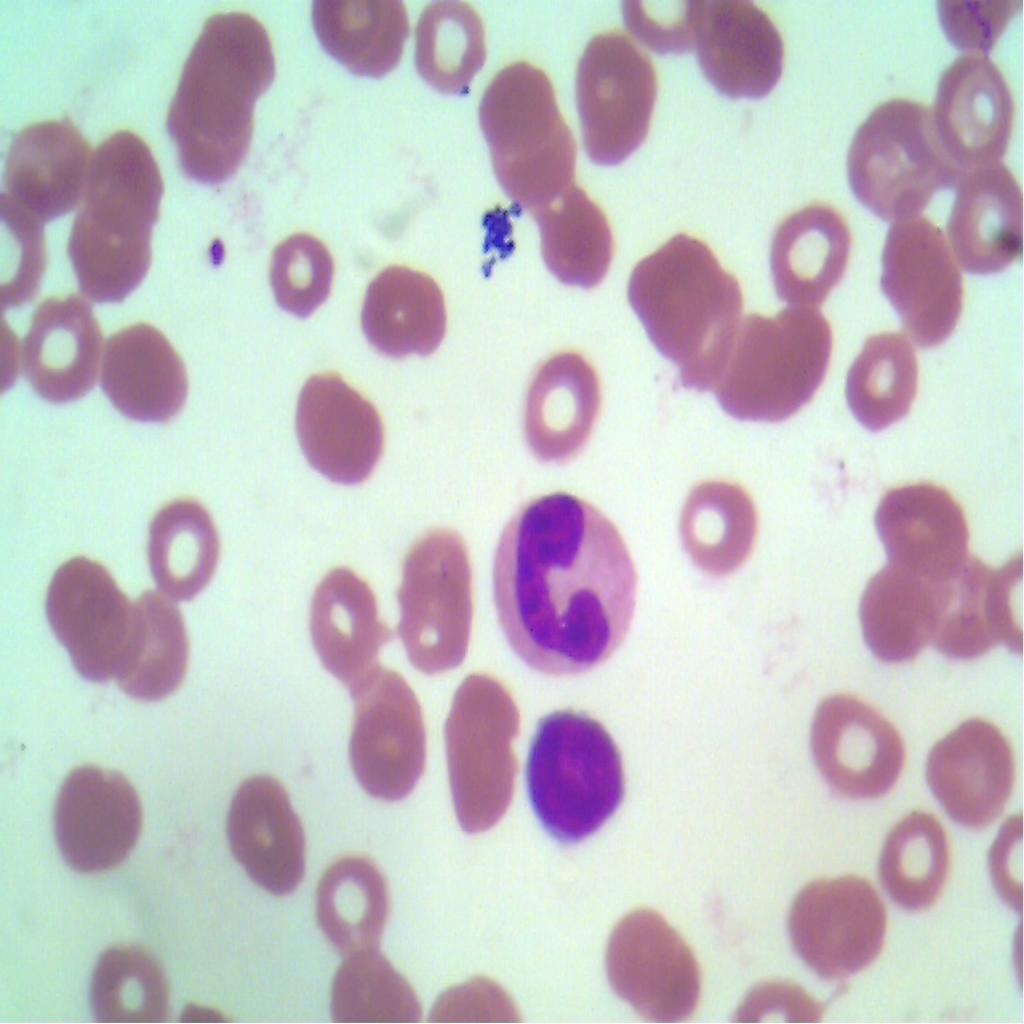Eritrosit: (35, 536, 135, 682), (344, 662, 433, 824), (509, 340, 615, 474), (803, 688, 914, 815), (51, 762, 153, 900), (569, 28, 664, 172), (922, 698, 1023, 832), (871, 204, 966, 343), (398, 530, 486, 677), (296, 361, 386, 500), (226, 767, 312, 909), (102, 584, 196, 712), (868, 468, 975, 578), (929, 47, 1018, 178), (602, 908, 703, 1023), (859, 799, 949, 928), (102, 328, 206, 438), (792, 864, 886, 985), (526, 180, 622, 298), (356, 254, 451, 371), (760, 194, 858, 307), (670, 467, 772, 575), (849, 538, 943, 655), (841, 95, 936, 210), (844, 331, 938, 447), (186, 17, 286, 122), (11, 108, 96, 230), (146, 486, 228, 612), (63, 204, 161, 308), (436, 737, 519, 859), (683, 0, 784, 100), (164, 75, 250, 192), (306, 0, 416, 91), (20, 292, 106, 408), (78, 128, 169, 237), (306, 559, 382, 688), (258, 221, 342, 337), (486, 112, 584, 211), (949, 161, 1023, 287), (632, 222, 710, 341), (946, 550, 1024, 668), (761, 291, 836, 409), (406, 0, 492, 101), (671, 278, 746, 392), (82, 938, 175, 1023), (714, 319, 786, 428), (314, 847, 394, 945), (470, 52, 550, 150), (439, 668, 521, 757), (318, 942, 403, 1023)
Limfoblast: (519, 699, 624, 848)
Neutrofil: (489, 478, 653, 697)
Platelet: (198, 230, 232, 278)
